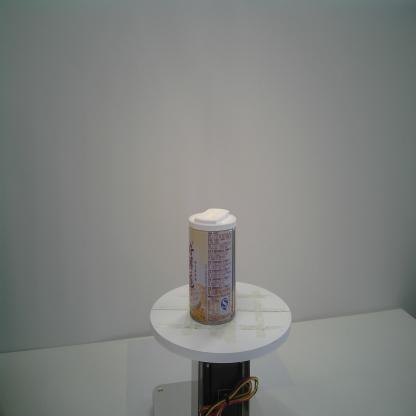Canned Food: (187, 204, 238, 328)
